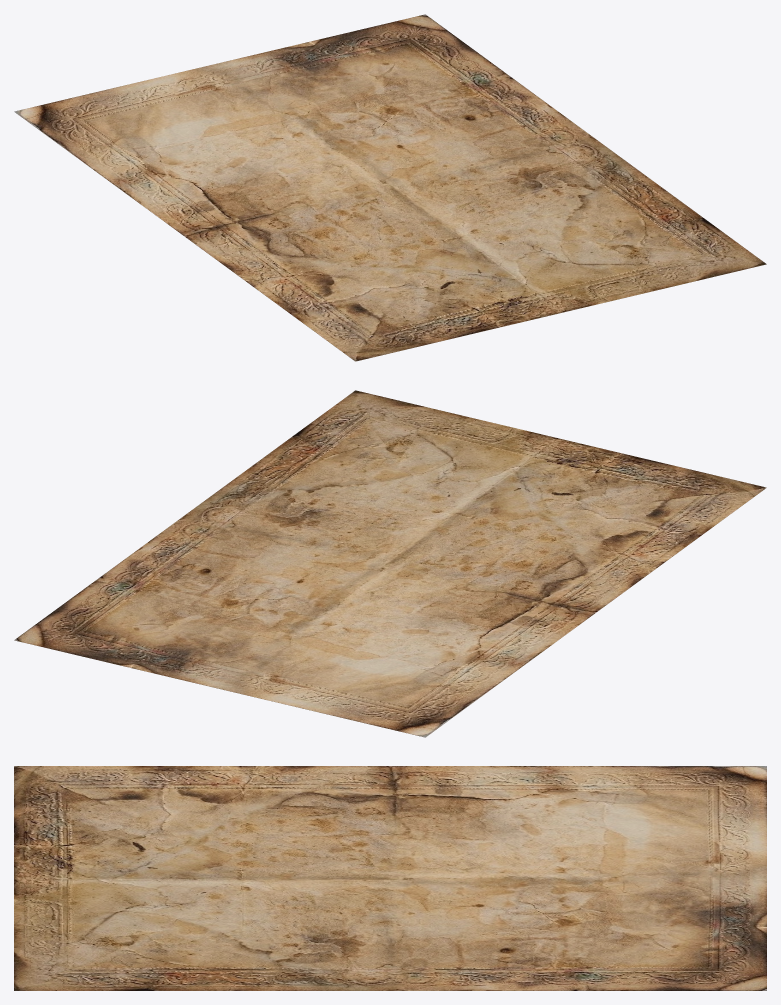
File: carta antigua.fbx
3 renders of one model, top to bottom at view 1: azimuth 30°, elevation 25°; view 2: azimuth 150°, elevation 25°; view 3: azimuth 270°, elevation 25°, orthographic. The views are drawn at different scales.
Parts seen in each view (by area): view 1: Paper_A; view 2: Paper_A; view 3: Paper_A.
Boxes of the visible parts, box(x1,y1,x2,y2) form: Paper_A: box(14, 14, 766, 361); Paper_A: box(14, 390, 766, 737); Paper_A: box(14, 766, 766, 990).
Size of the model in its own units: 20.4 by 0.1546 by 29.32.
2 materials, 1 textured.
